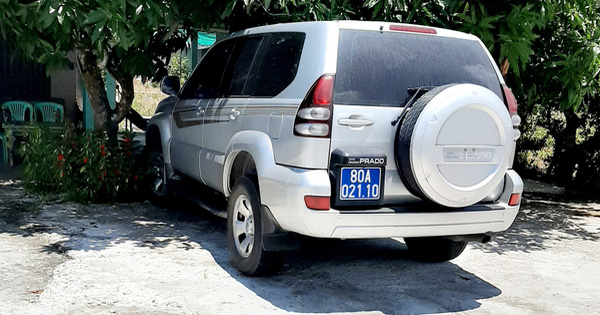plate: (337, 164, 382, 199)
